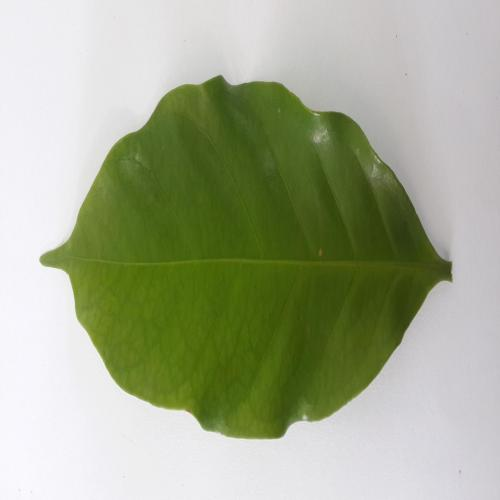leaf: (23, 62, 474, 467)
